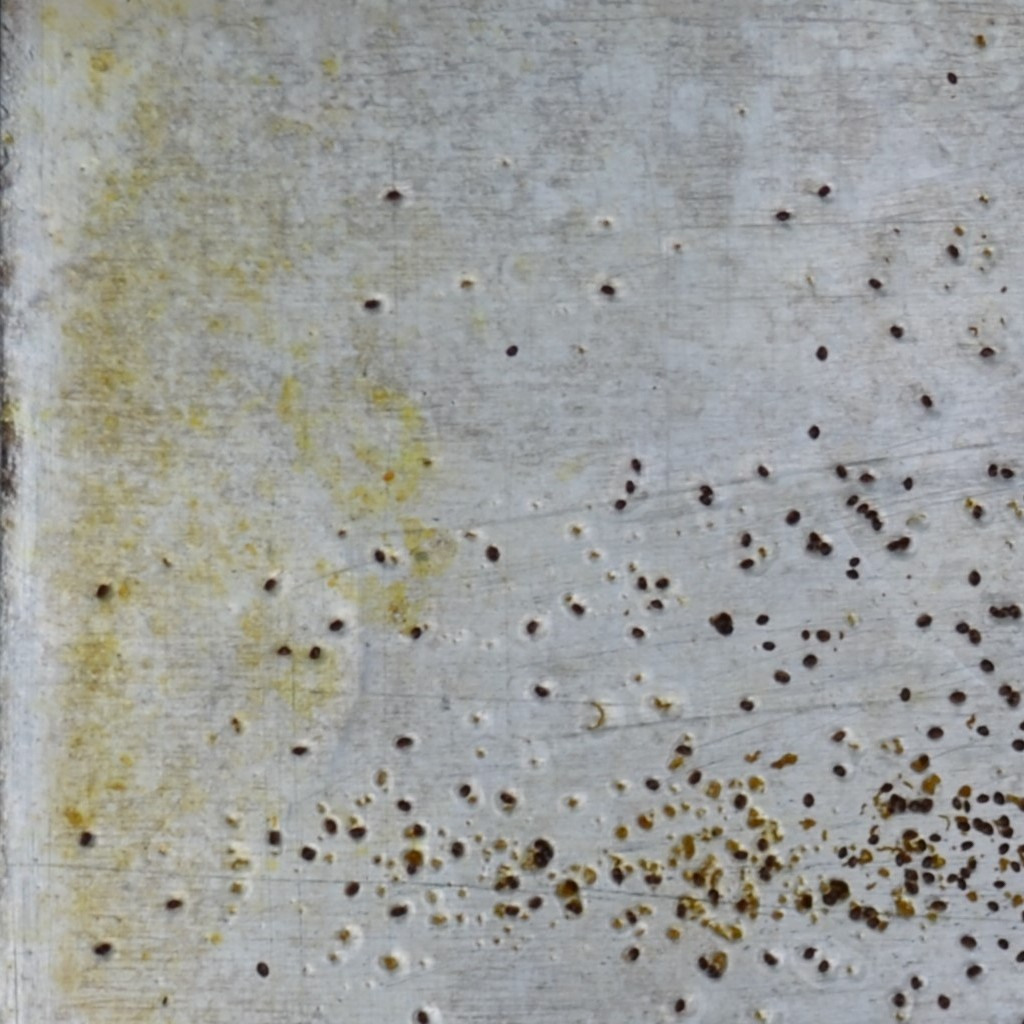varroa: (393, 730, 415, 752), (483, 542, 504, 564), (359, 295, 385, 312), (343, 877, 361, 901), (888, 321, 907, 342), (609, 495, 630, 514), (93, 938, 112, 958), (253, 960, 273, 979), (594, 282, 617, 298), (867, 274, 886, 293), (384, 185, 405, 202), (165, 894, 182, 915), (349, 825, 370, 842), (385, 903, 407, 919), (943, 243, 962, 261), (805, 423, 823, 442), (275, 642, 294, 660), (299, 843, 317, 862), (813, 344, 831, 362), (774, 206, 793, 223), (94, 582, 111, 601), (290, 742, 309, 759), (815, 181, 832, 199), (503, 341, 521, 358), (261, 575, 278, 593), (395, 798, 413, 815), (967, 567, 983, 586), (978, 344, 998, 359), (900, 473, 915, 493), (985, 458, 999, 479), (919, 390, 936, 407), (327, 617, 345, 633), (622, 477, 638, 495), (970, 502, 985, 521), (323, 816, 338, 835), (373, 547, 388, 565), (629, 456, 644, 474), (673, 995, 686, 1015), (1000, 465, 1016, 481), (78, 830, 94, 846), (307, 643, 322, 660), (945, 67, 959, 85), (415, 1007, 430, 1022), (411, 624, 422, 640)
